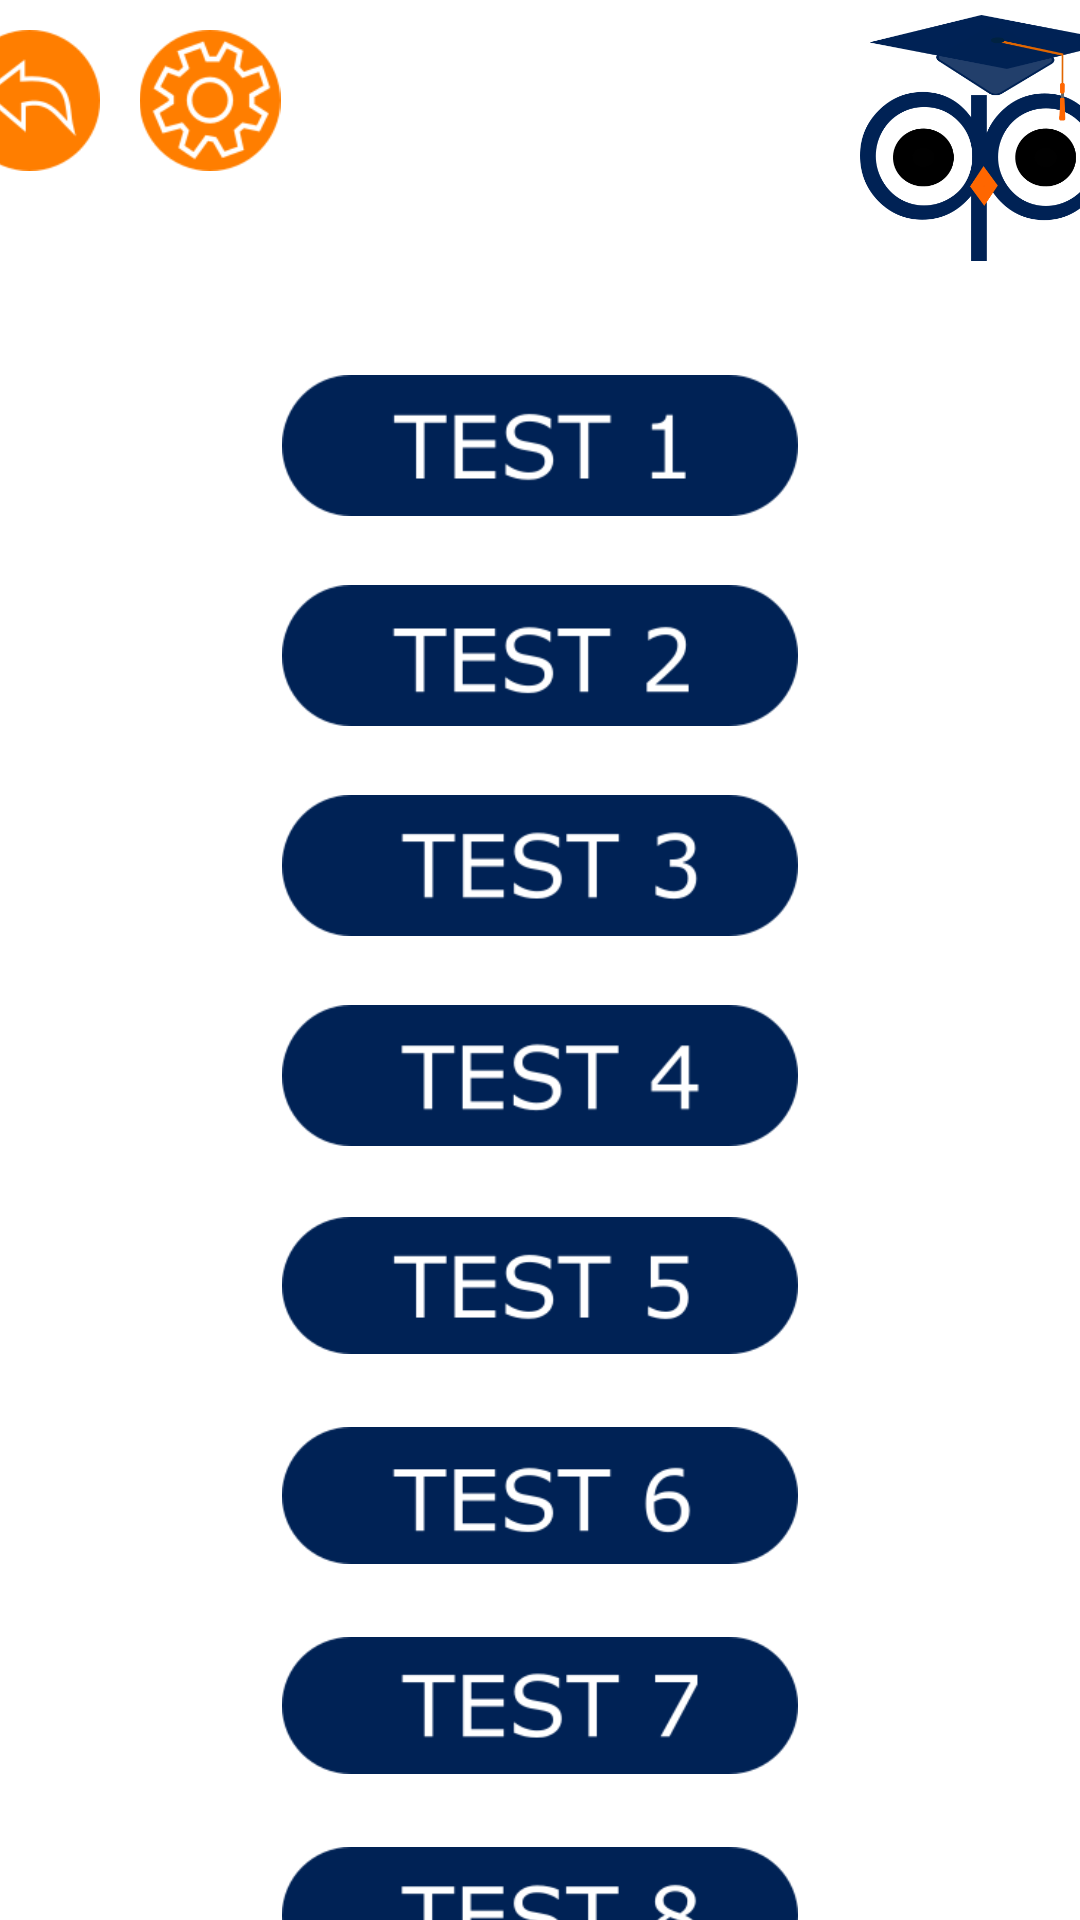

Screen size 1080*1920. Icon name, then its box in pixels as (x1, y1, x2, y2):
setings: (140, 30, 281, 171)
